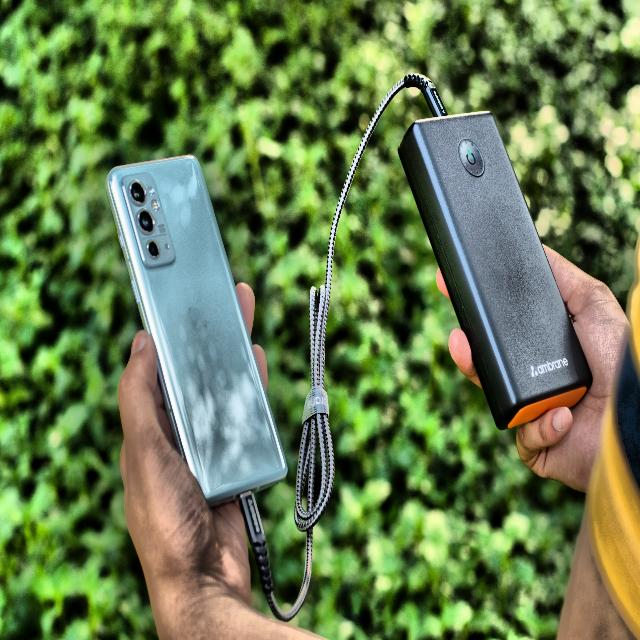PHONE: (107, 156, 287, 504)
Power bank: (399, 112, 592, 429)
